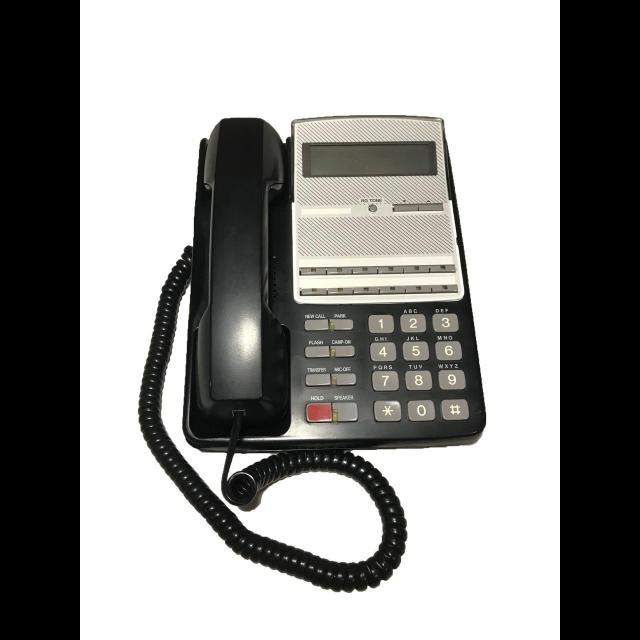Telephone-Set: (166, 77, 509, 566)
